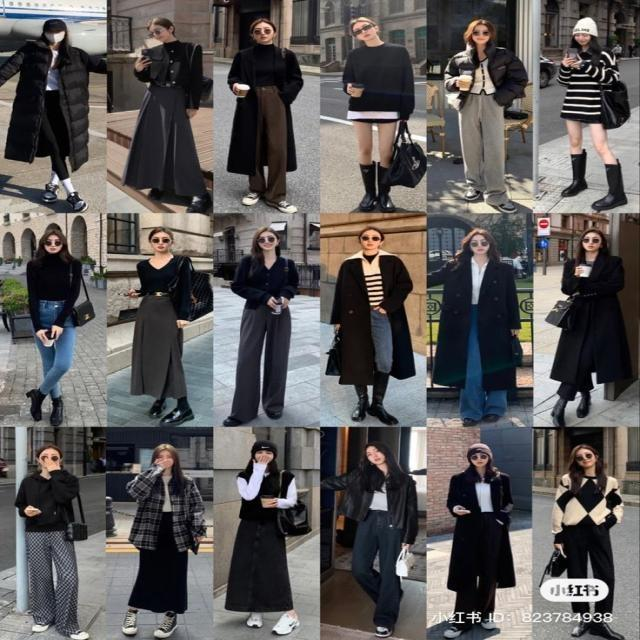person: (0, 19, 107, 212), (319, 440, 418, 638), (426, 228, 522, 427), (120, 17, 211, 214), (328, 226, 416, 425), (548, 228, 633, 427), (442, 18, 528, 214), (121, 443, 206, 638), (222, 225, 300, 426), (226, 17, 304, 213), (223, 440, 301, 634), (550, 443, 626, 639), (14, 444, 90, 639), (341, 16, 416, 212), (442, 442, 516, 638), (556, 17, 628, 211), (127, 226, 196, 424), (25, 228, 84, 426)
